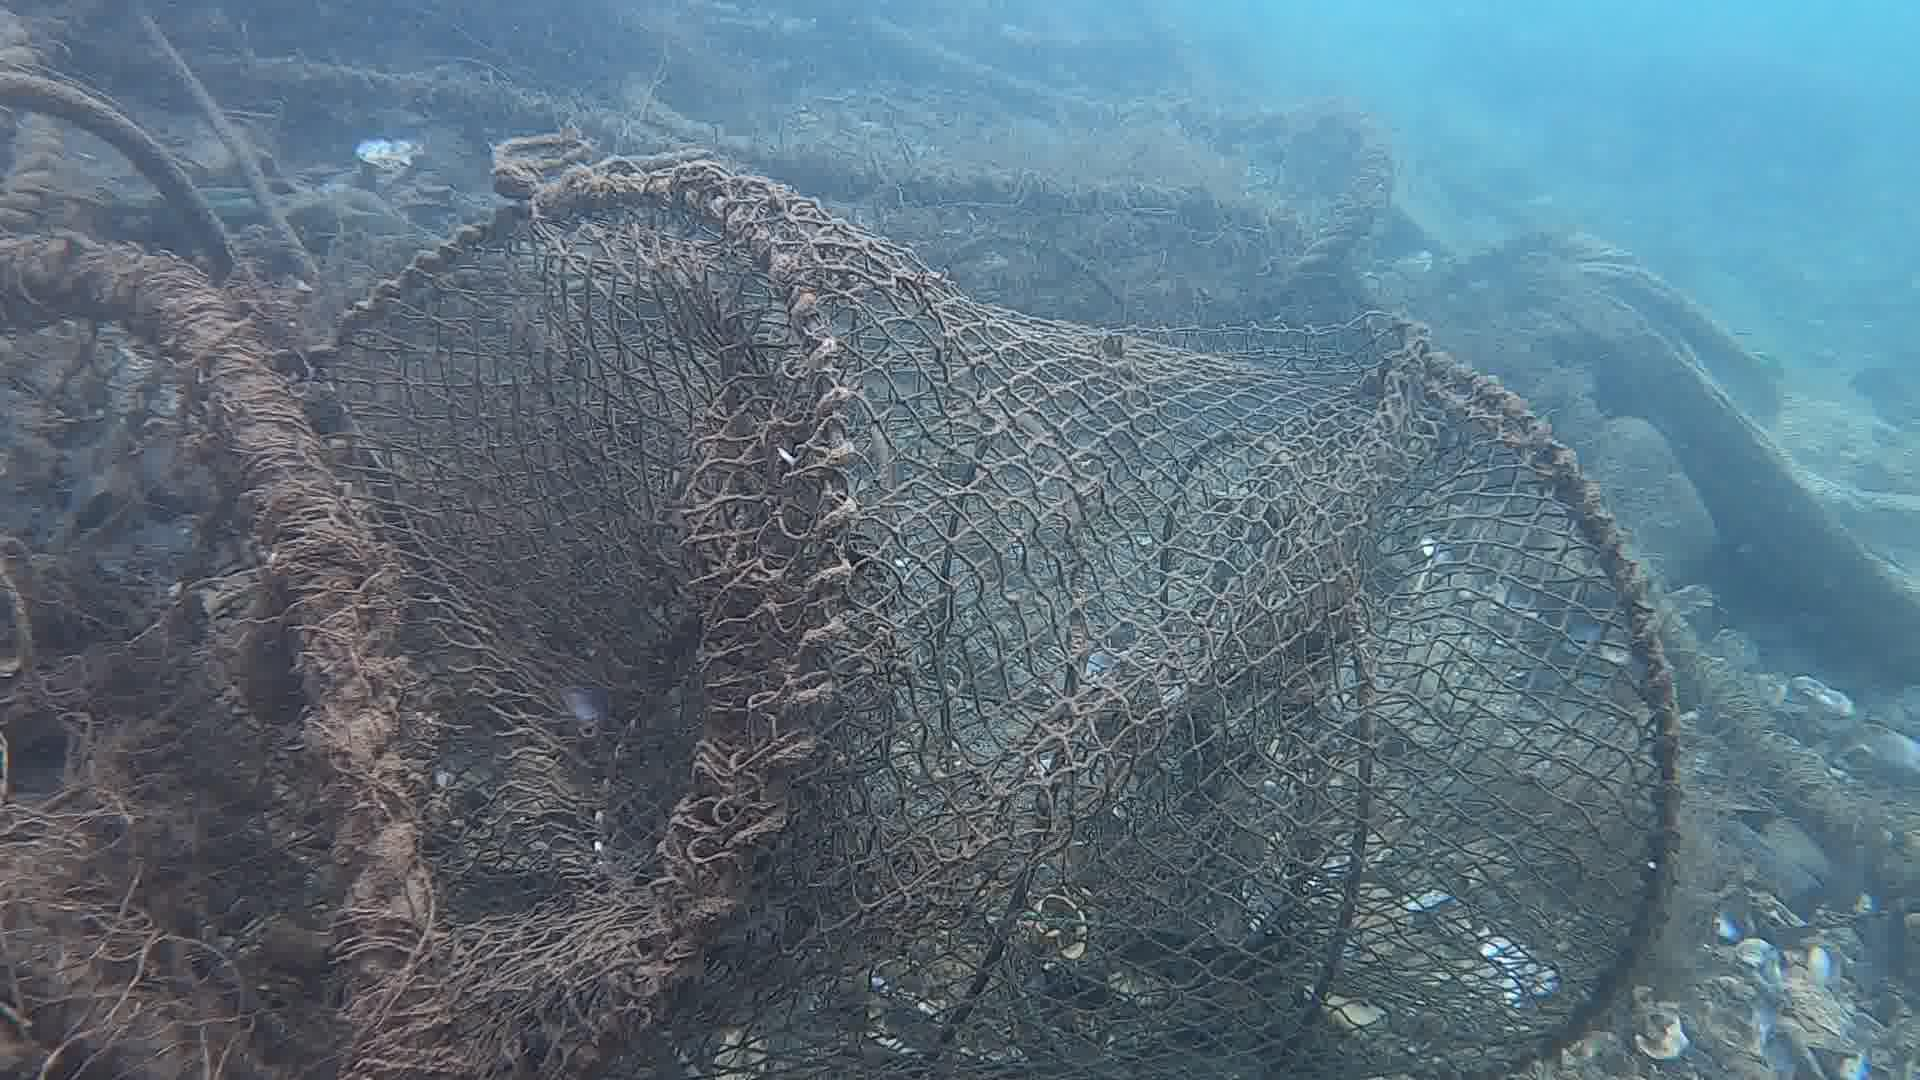spring fish trap: (190, 157, 1689, 1080)
